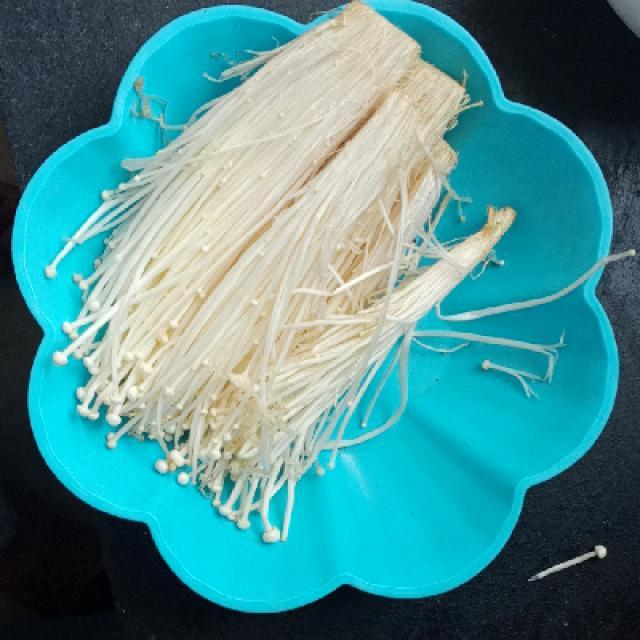Flammulina velutiper: (45, 0, 516, 533)
